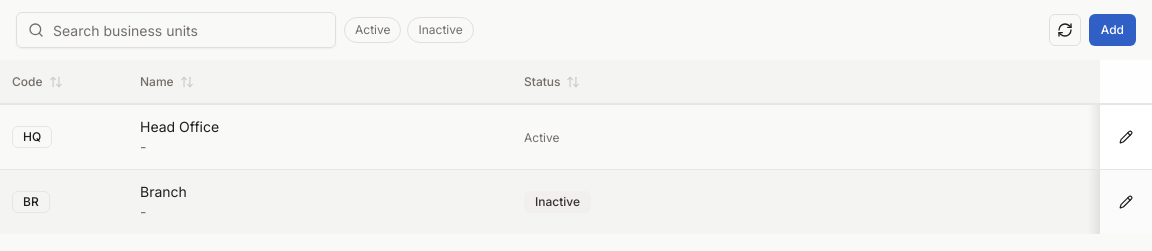
it: BusinessUnitsSection › filters to active only via chip
Click the button "Active": (373, 30) [344,17,402,43]
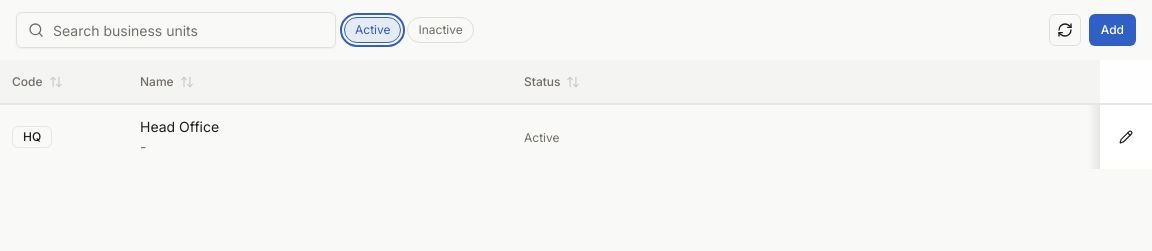
Check: the text "Head Office" is shown, box [140,117,219,137]
Check: the text "Branch" is gone
